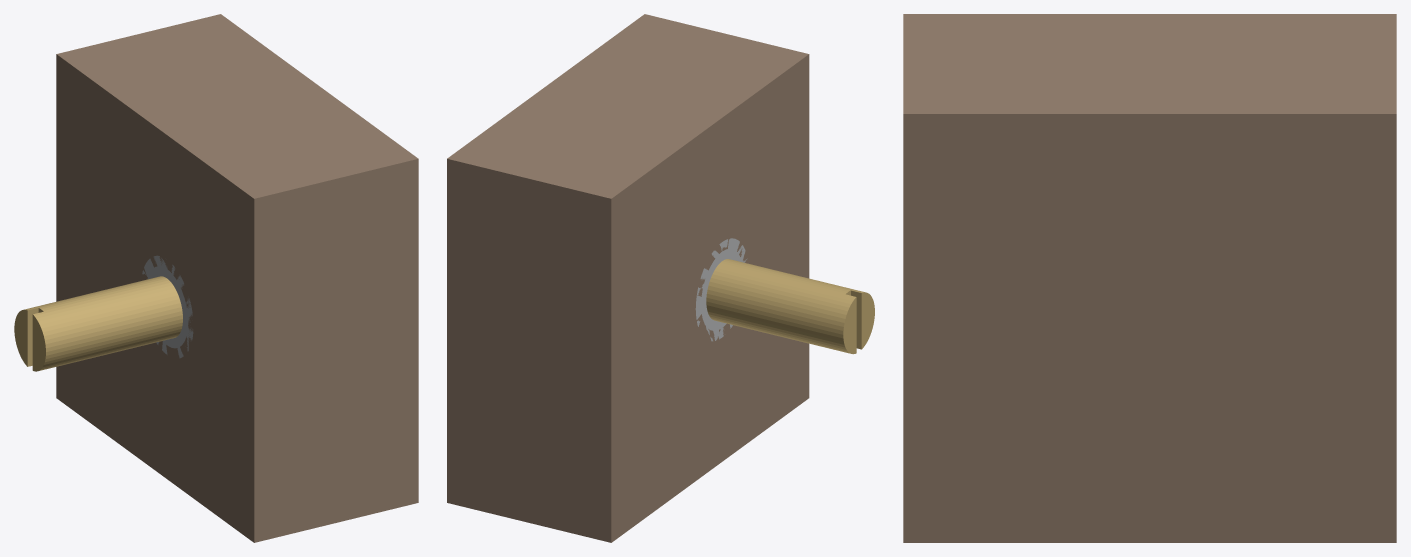
Rendered from axis-r.glb.
3 views of the same model, side by side, from view 1: azimuth 30°, elevation 25°; view 2: azimuth 150°, elevation 25°; view 3: azimuth 270°, elevation 25° (orthographic). The views are drawn at different scales.
Parts seen in each view (by area): view 1: Right-wall-18, Pin-R-1, Axle-insert-R-1-M5x10; view 2: Right-wall-18, Pin-R-1, Axle-insert-R-1-M5x10; view 3: Right-wall-18.
Part boxes in pixels (x1=…): Right-wall-18: x1=56, y1=14, x2=418, y2=542; Pin-R-1: x1=14, y1=276, x2=182, y2=371; Axle-insert-R-1-M5x10: x1=142, y1=255, x2=193, y2=358; Right-wall-18: x1=447, y1=14, x2=809, y2=542; Pin-R-1: x1=706, y1=259, x2=874, y2=354; Axle-insert-R-1-M5x10: x1=695, y1=238, x2=747, y2=341; Right-wall-18: x1=903, y1=14, x2=1396, y2=542.
Bounding box in the file's own units: 0.033 × 0.036 × 0.0375.
